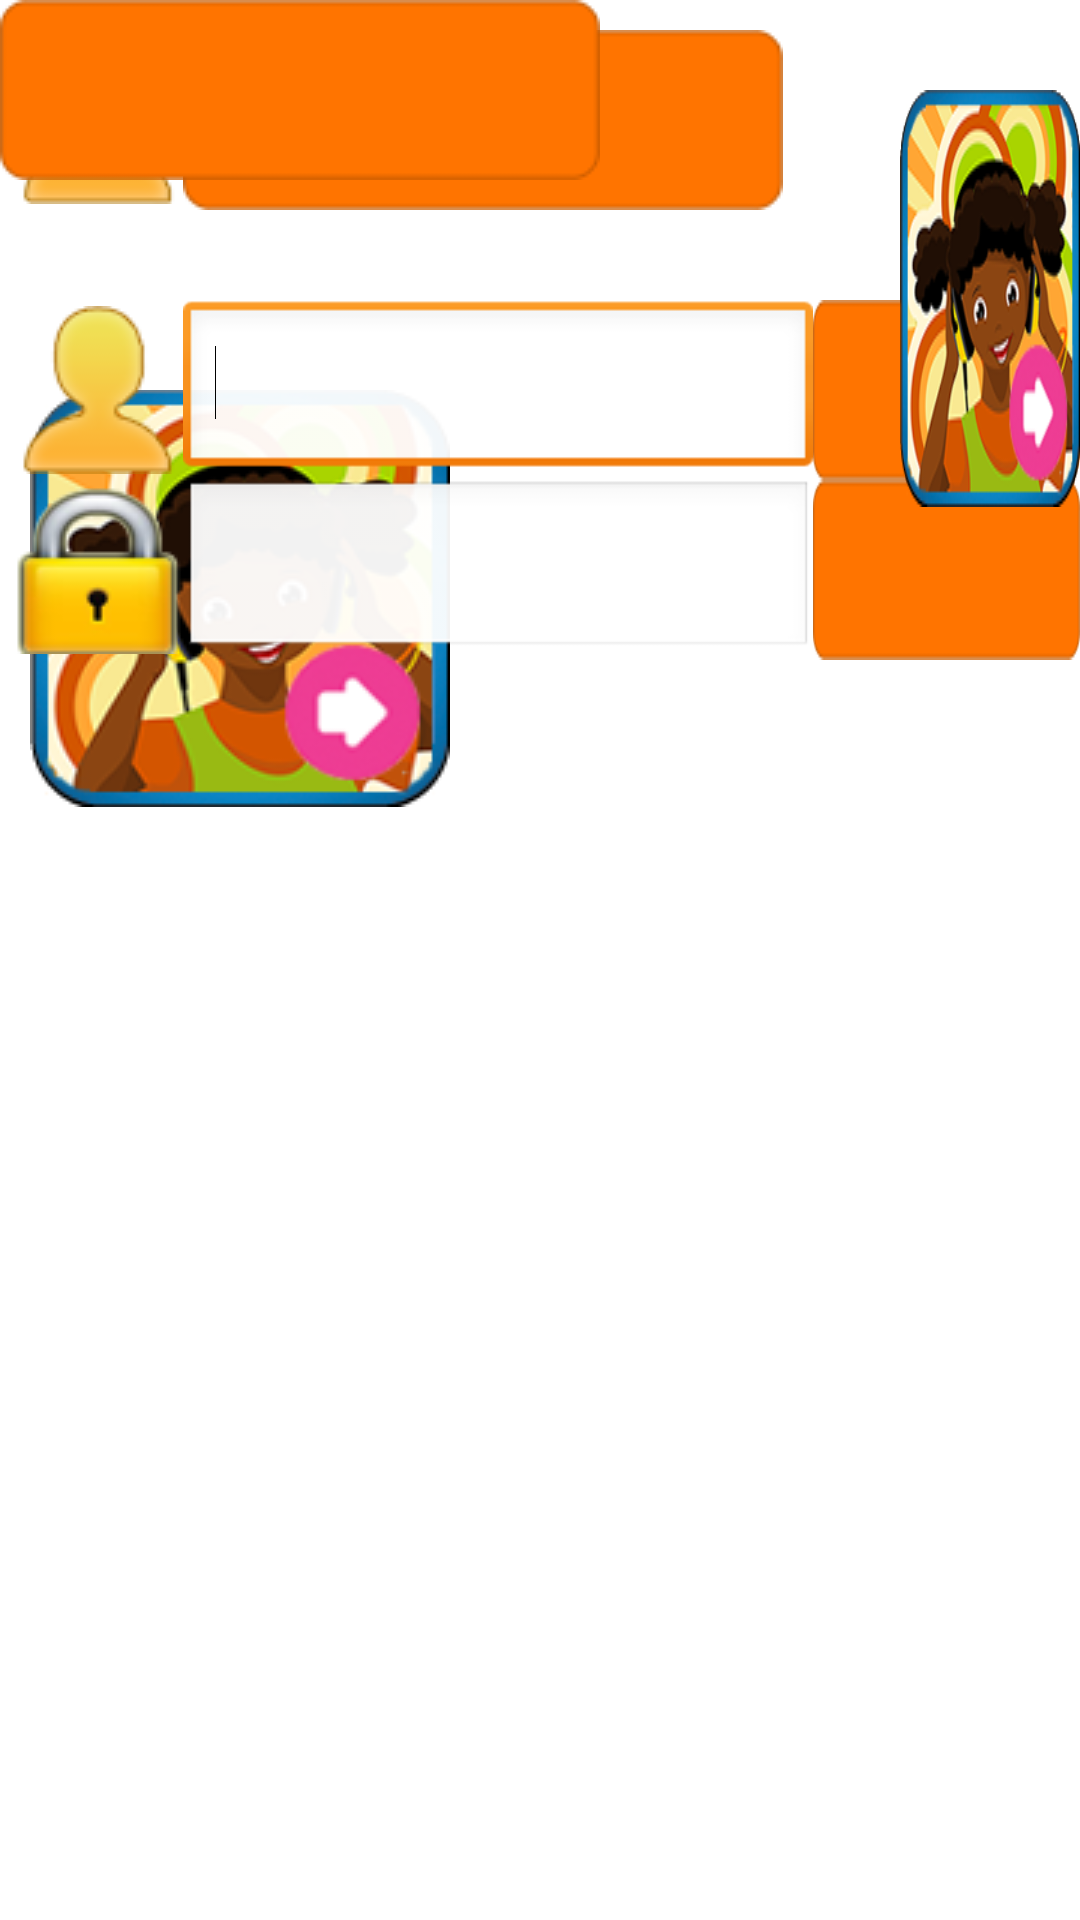

Point at icon controls on the screen. Image size 1080w x 1920h, points as (x=x, y=y).
password: (x=99, y=570)
